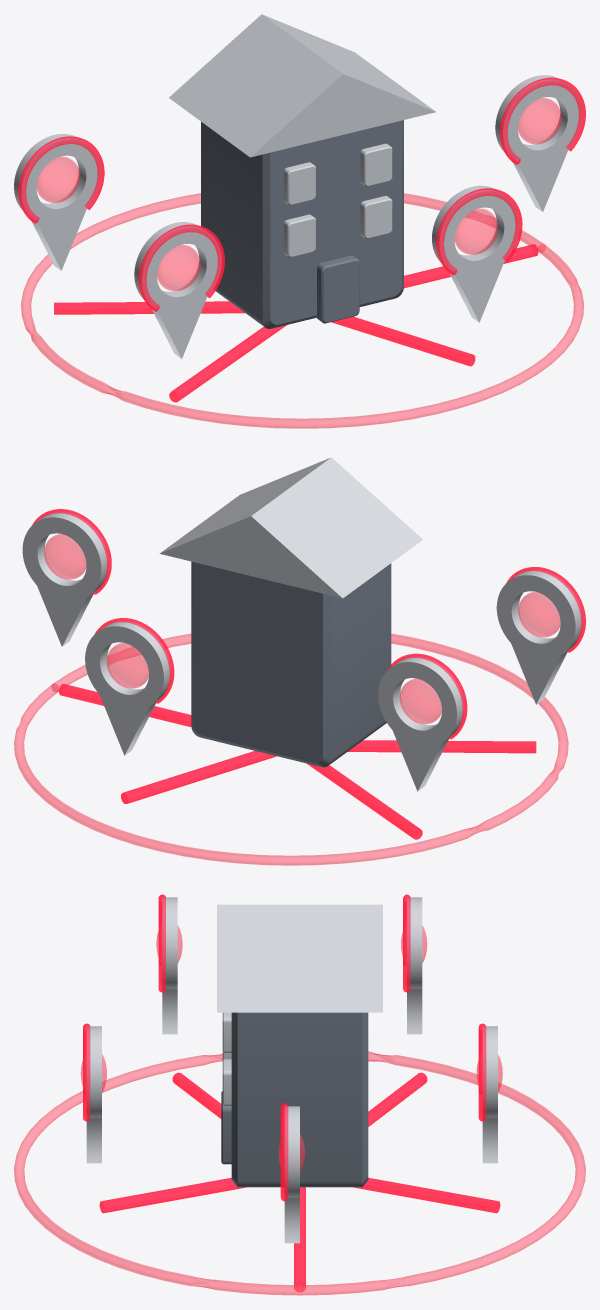
File: 45-service-network.glb
The picture shows the model from 3 angles, top to bottom: view 1: azimuth 30°, elevation 25°; view 2: azimuth 150°, elevation 25°; view 3: azimuth 270°, elevation 25°; orthographic projection. The views are drawn at different scales.
Parts seen in each view (by area): view 1: BC satin silver metal, BC dark brushed metal, BC ruby optical glass, BC neon red glass edge; view 2: BC satin silver metal, BC dark brushed metal, BC ruby optical glass, BC neon red glass edge; view 3: BC satin silver metal, BC dark brushed metal, BC ruby optical glass, BC neon red glass edge.
Boxes of the visible parts, box(x1,y1,x2,y2) form: BC satin silver metal: box(14, 14, 582, 358); BC dark brushed metal: box(201, 120, 403, 328); BC ruby optical glass: box(21, 98, 583, 428); BC neon red glass edge: box(18, 77, 585, 402); BC satin silver metal: box(22, 457, 582, 791); BC dark brushed metal: box(191, 561, 391, 767); BC ruby optical glass: box(14, 534, 568, 865); BC neon red glass edge: box(32, 509, 585, 839); BC satin silver metal: box(86, 897, 497, 1243); BC dark brushed metal: box(221, 1012, 368, 1187); BC ruby optical glass: box(14, 925, 585, 1295); BC neon red glass edge: box(83, 894, 500, 1292).
Size of the model in its own units: 2.34 by 1.16 by 2.2.
